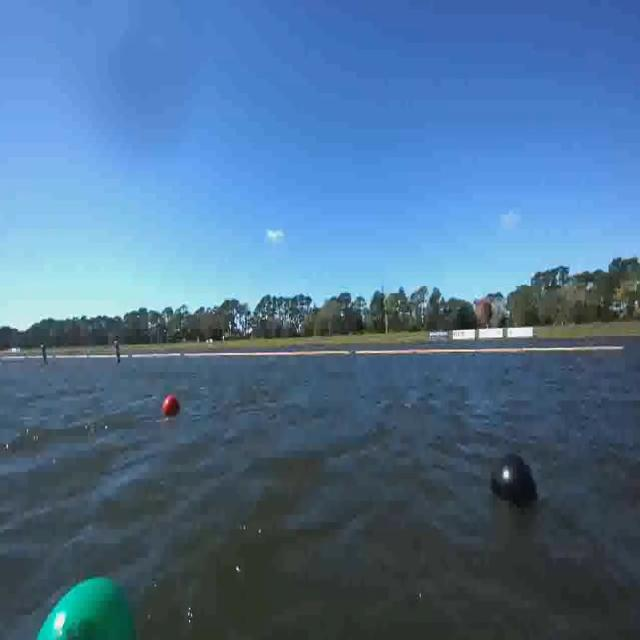black-buoy: (486, 451, 538, 512)
green-buoy: (7, 565, 154, 640)
red-buoy: (164, 395, 181, 415)
